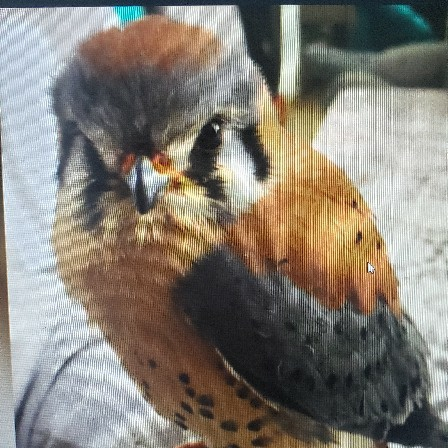Not_a_Chicken: (41, 8, 418, 443)
